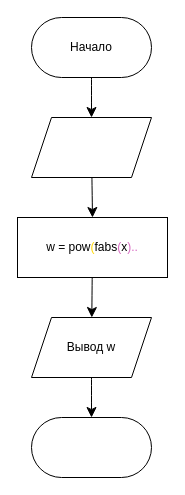
Image size: 185x495. Some labels were removed from this diagram. Here are the shapes that lost their labels. From the top down, the centre of each, then its label:
At (x=91, y=147): "Ввод x, y, z".
At (x=91, y=447): "Конец".
